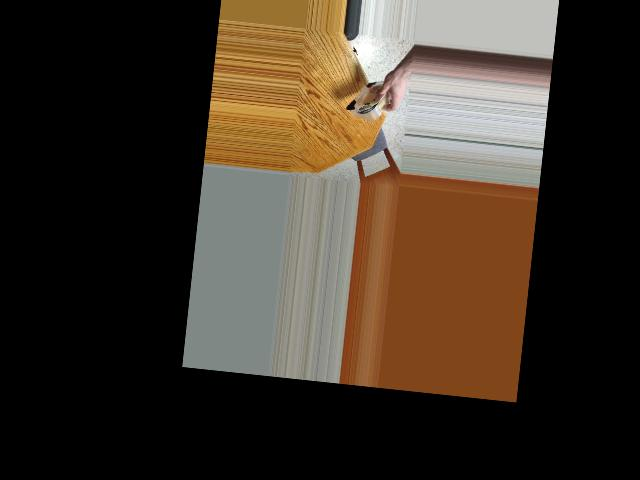cheese: (347, 65, 391, 126)
